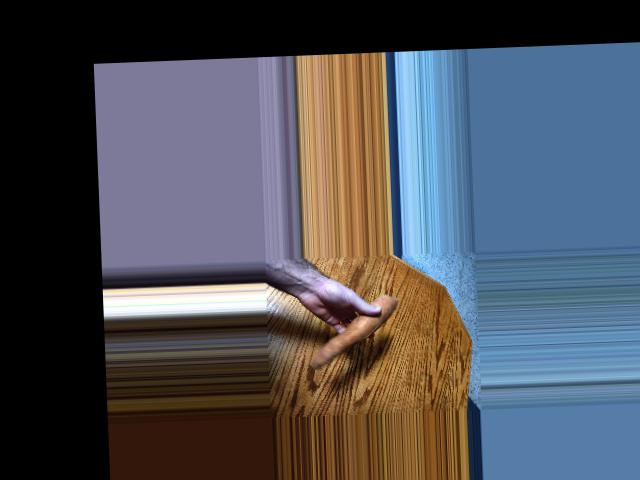sweet_potato: (308, 292, 392, 366)
